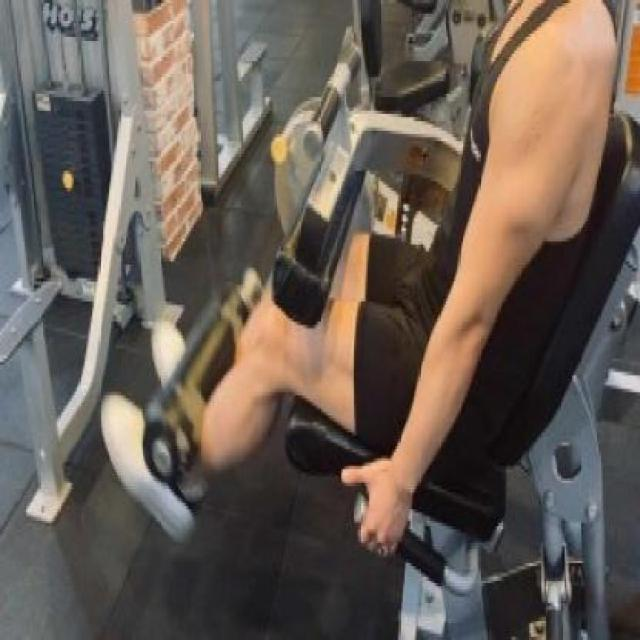leg extension: (83, 0, 637, 640)
